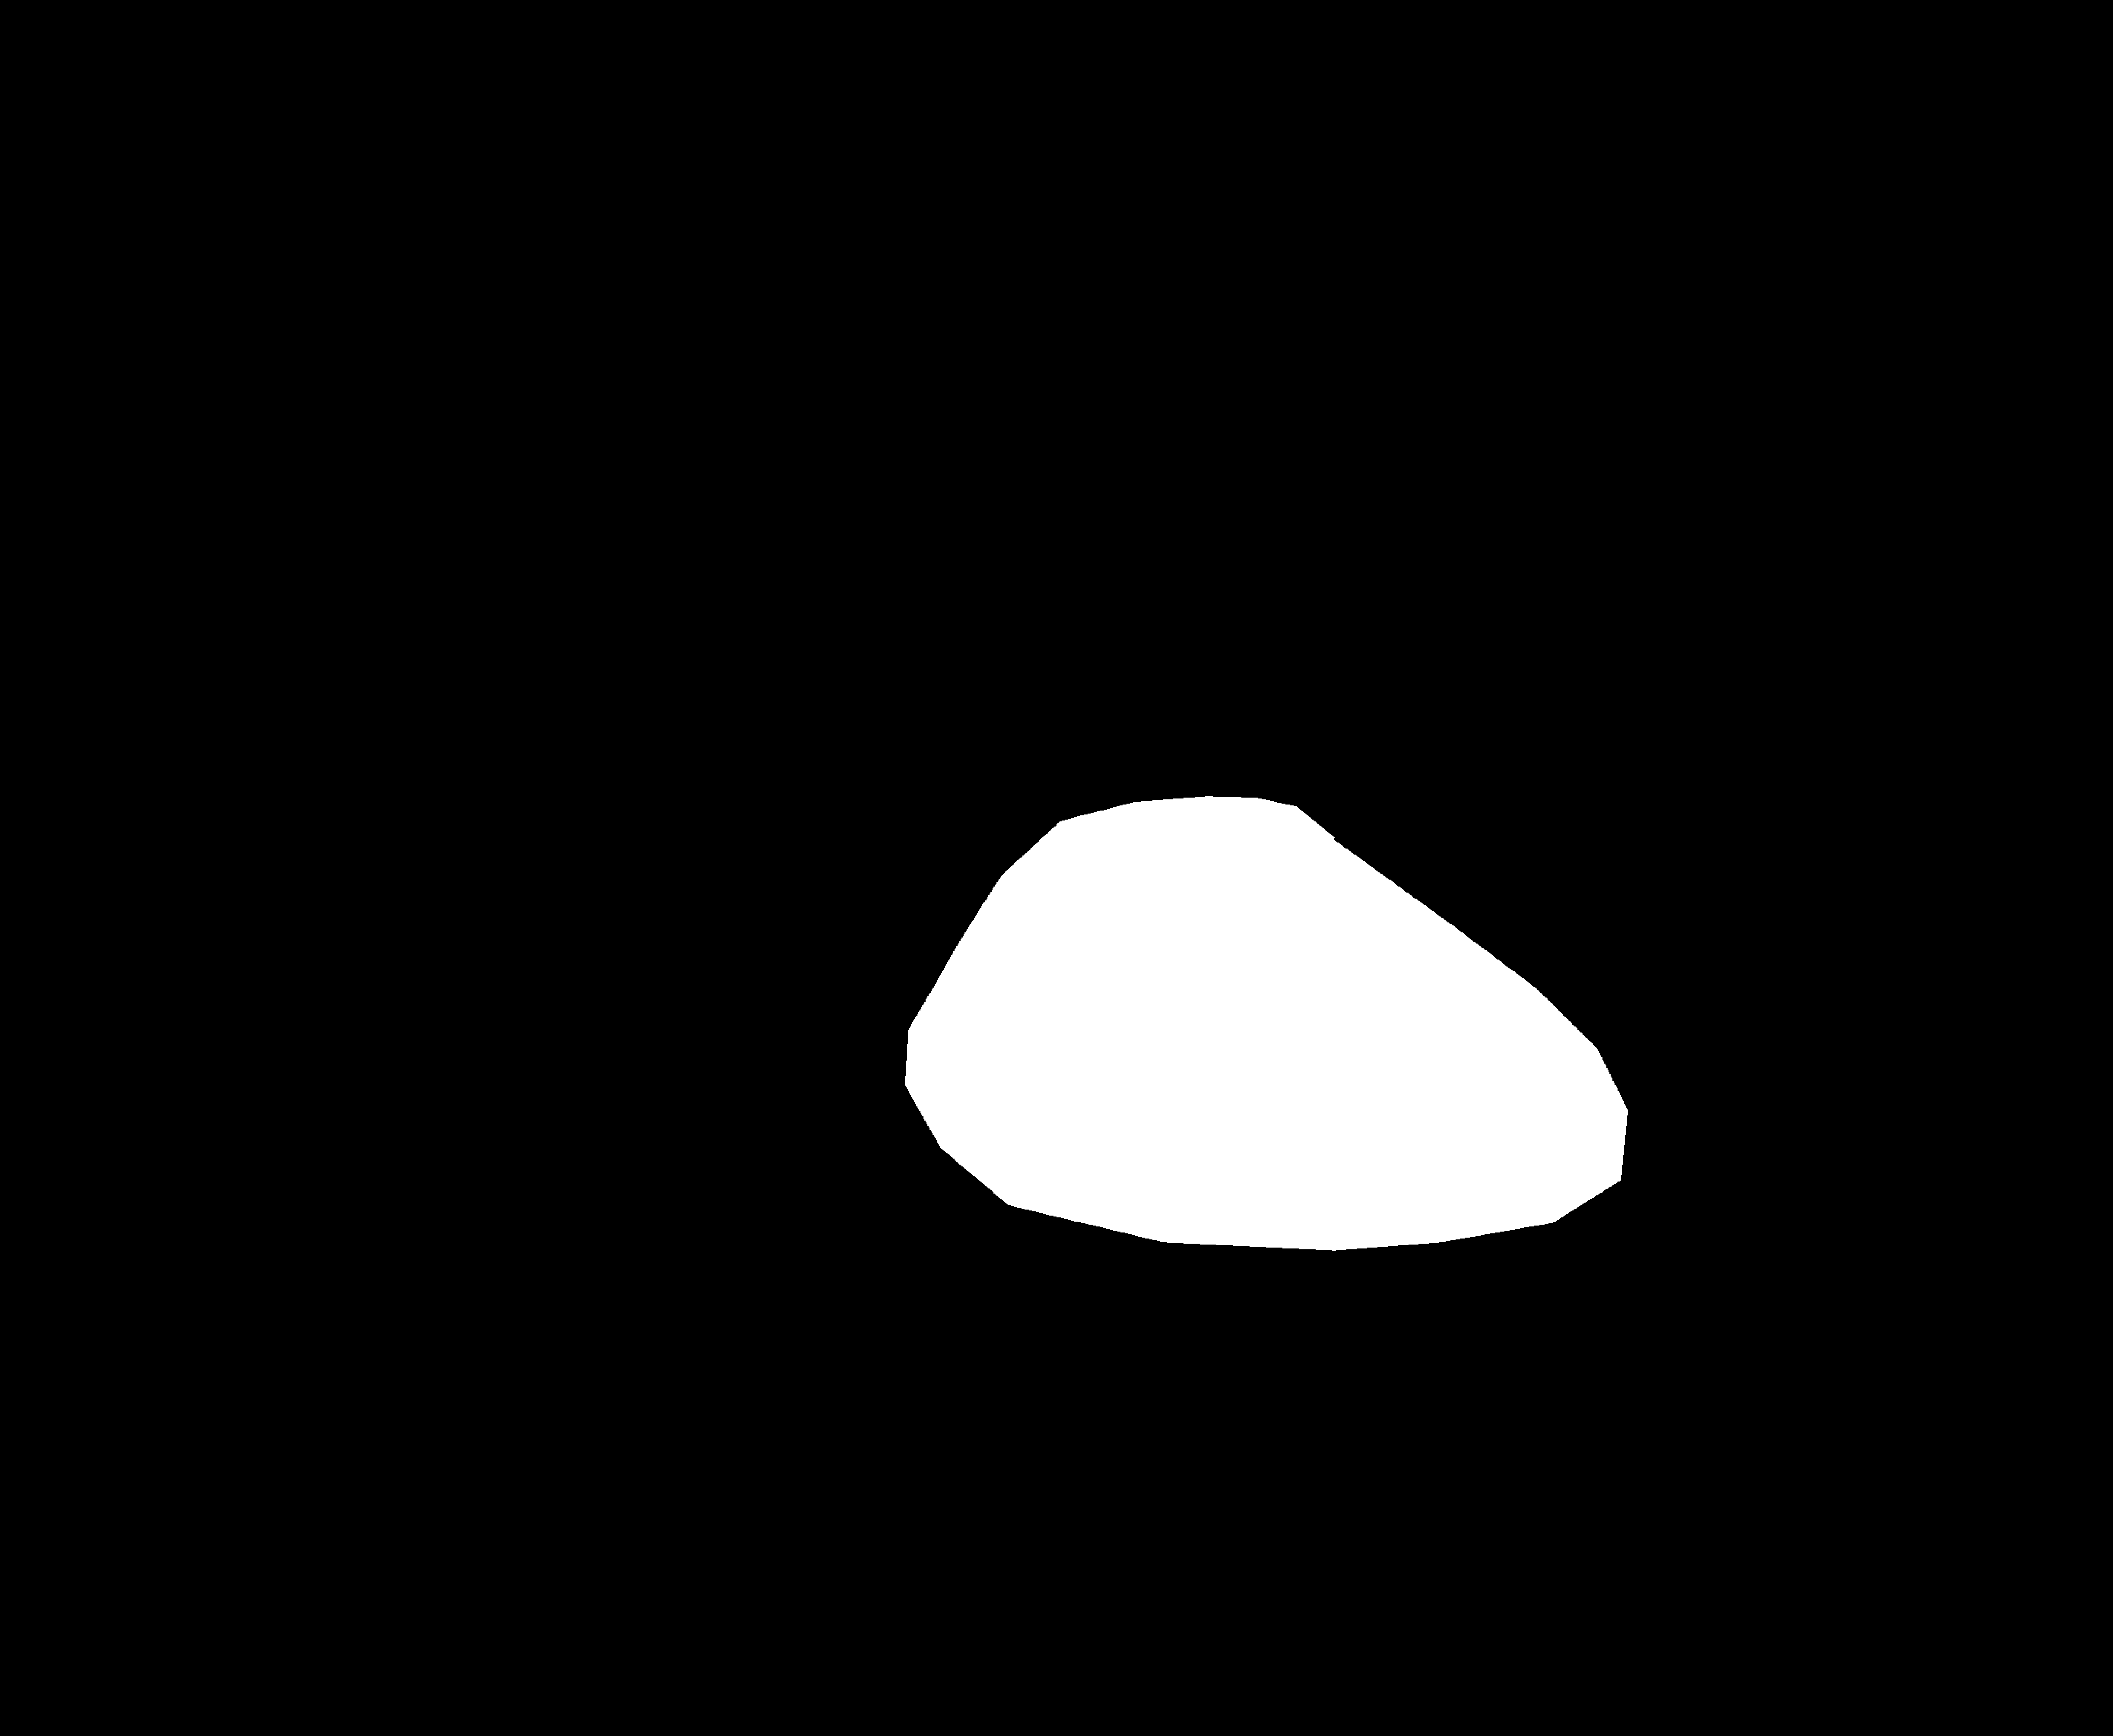heart: (904, 779, 1595, 1245)
left_lung: (428, 181, 1039, 1230)
right_lung: (1162, 188, 1823, 1287)
